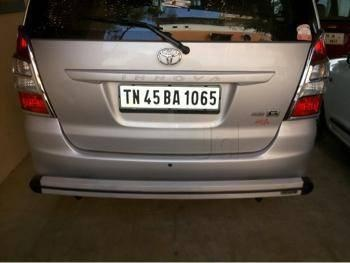number_plate: (119, 84, 220, 111)
